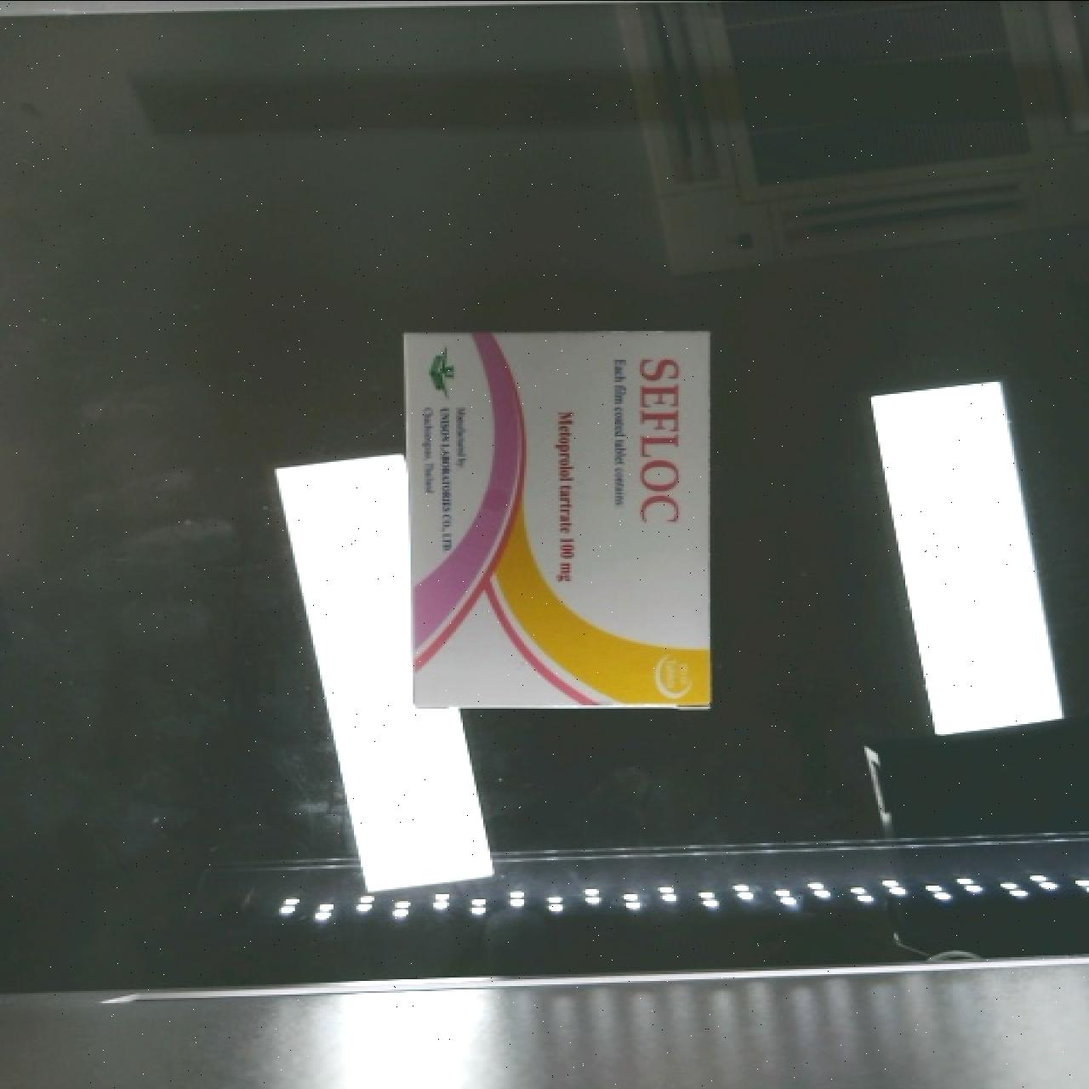medicine_label_obb: (617, 340, 694, 544)
